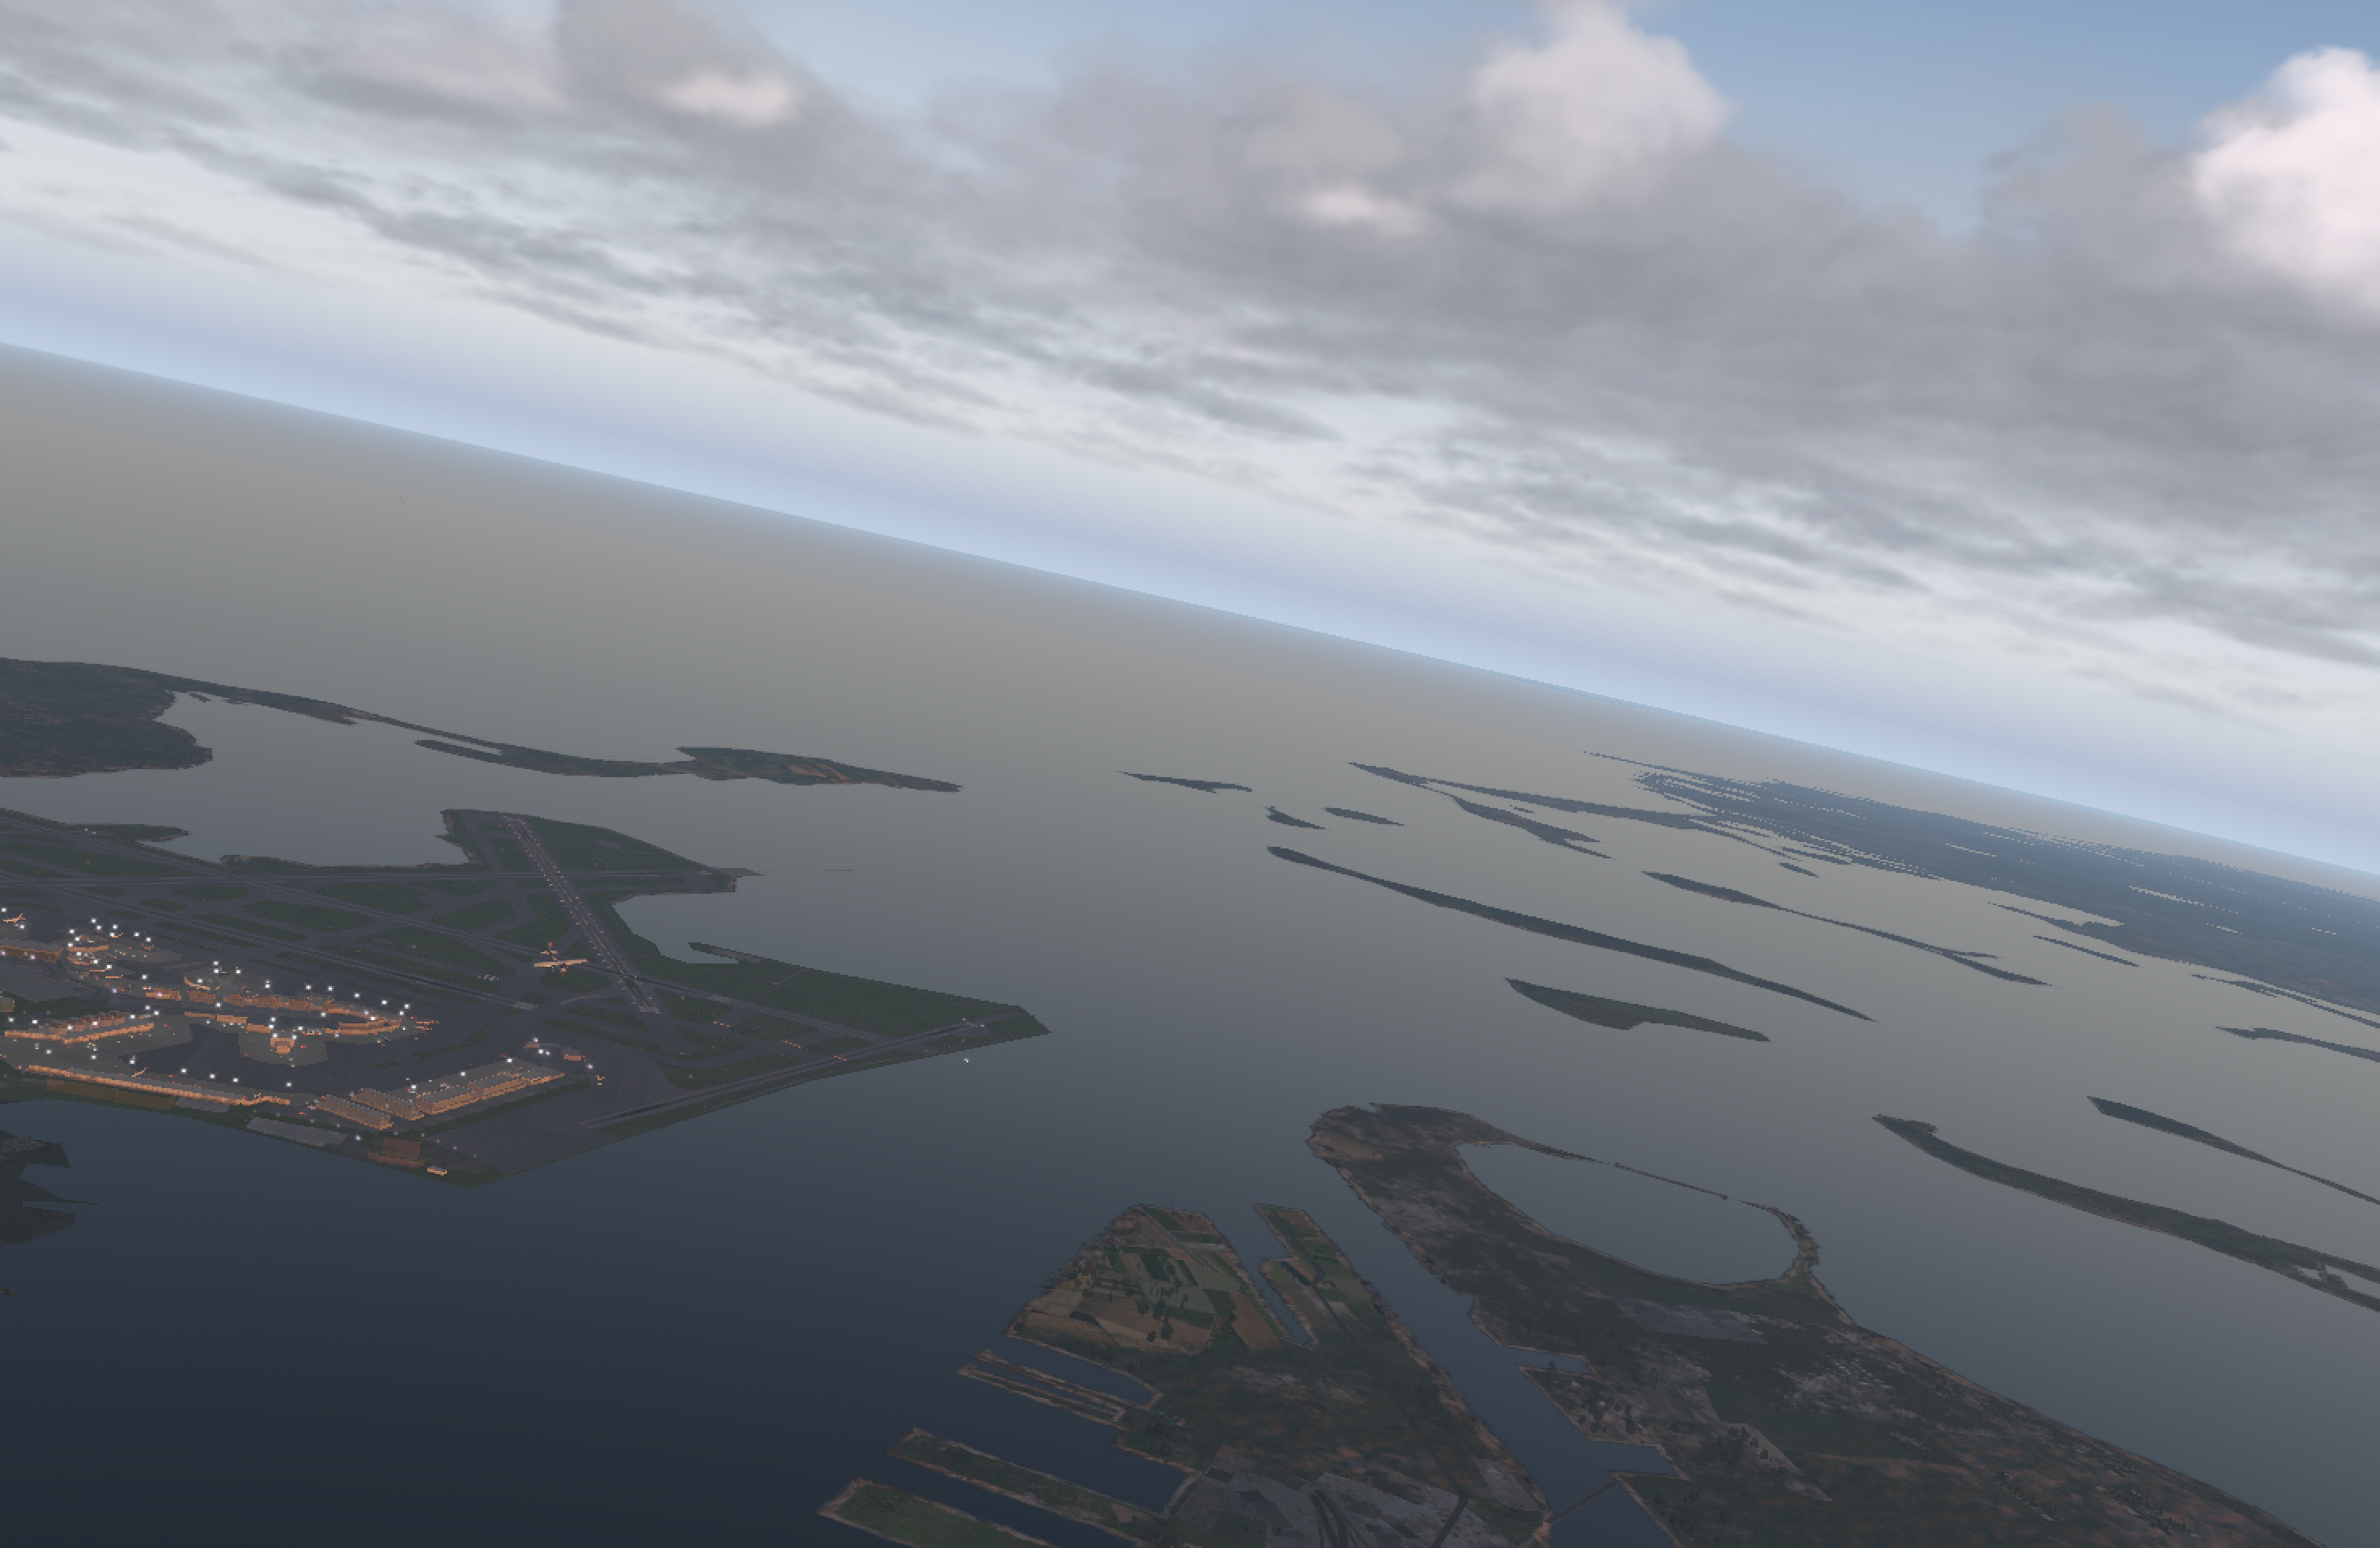aircraft: (541, 960, 579, 974)
